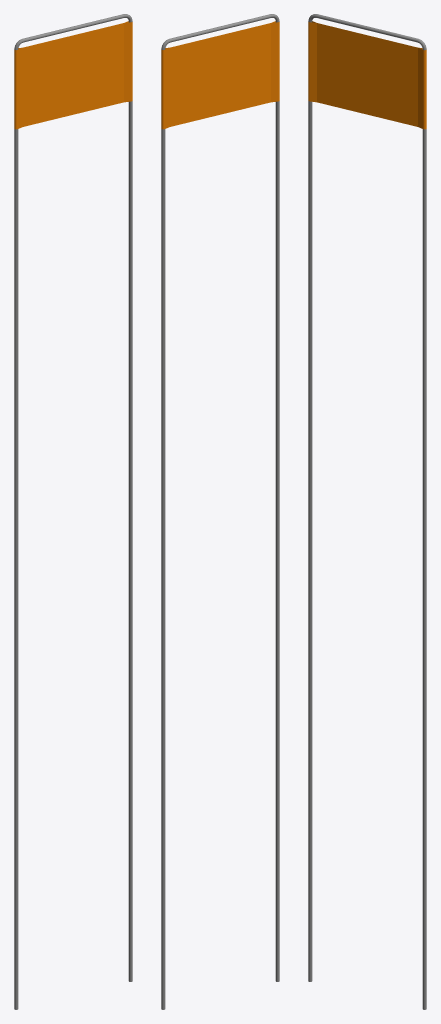
Rendered from marker2_orange_LOD0.gltf.
3 renders of one model, left to right at view 1: azimuth 30°, elevation 25°; view 2: azimuth 210°, elevation 25°; view 3: azimuth 330°, elevation 25°, orthographic.
Visible parts, largest first — view 1: Loft001; view 2: Loft001; view 3: Loft001.
Part boxes in pixels (<box>): Loft001: <box>14,14,132,1009</box>; Loft001: <box>161,14,279,1009</box>; Loft001: <box>308,14,426,1009</box>.
Size of the model in its own units: 0.701 by 5.5 by 0.0216.
